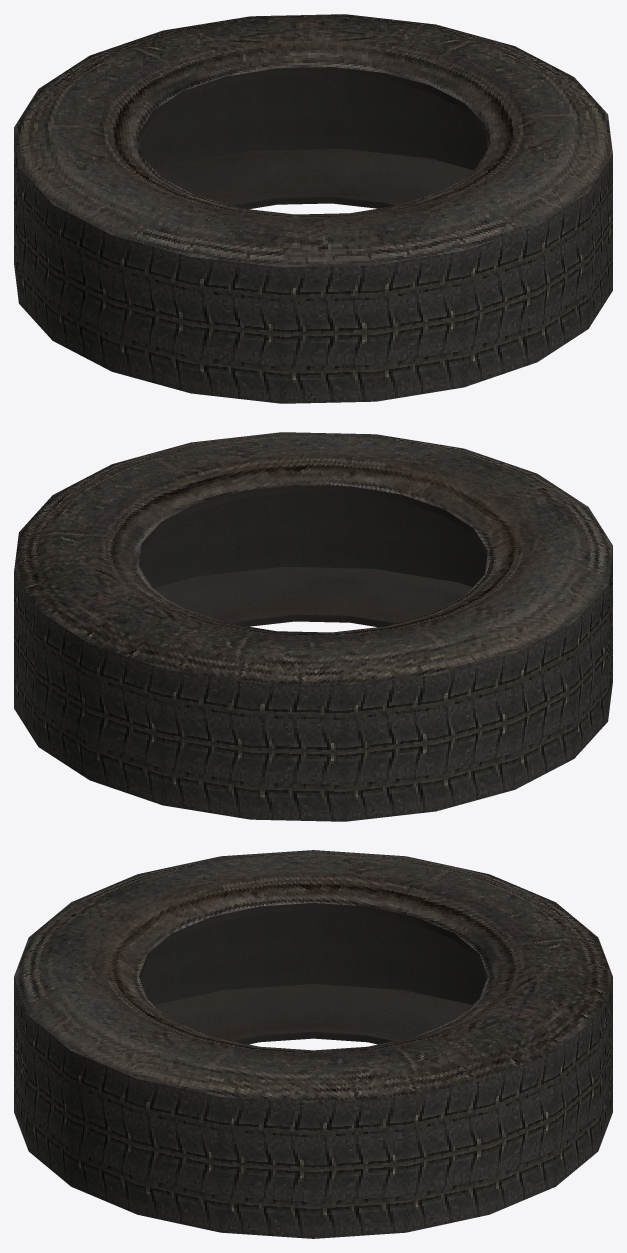
The model's file is tire_1.glb.
The picture shows the model from 3 angles, top to bottom: view 1: azimuth 30°, elevation 25°; view 2: azimuth 150°, elevation 25°; view 3: azimuth 270°, elevation 25°; orthographic projection.
Visible parts, largest first — view 1: tire_1; view 2: tire_1; view 3: tire_1.
Boxes of the visible parts, x1=… form: tire_1: x1=14, y1=14, x2=612, y2=403; tire_1: x1=14, y1=432, x2=612, y2=821; tire_1: x1=14, y1=850, x2=612, y2=1238.
Bounding box in the file's own units: 0.8 × 0.2366 × 0.8.
Materials: 1 (1 with a texture image).
